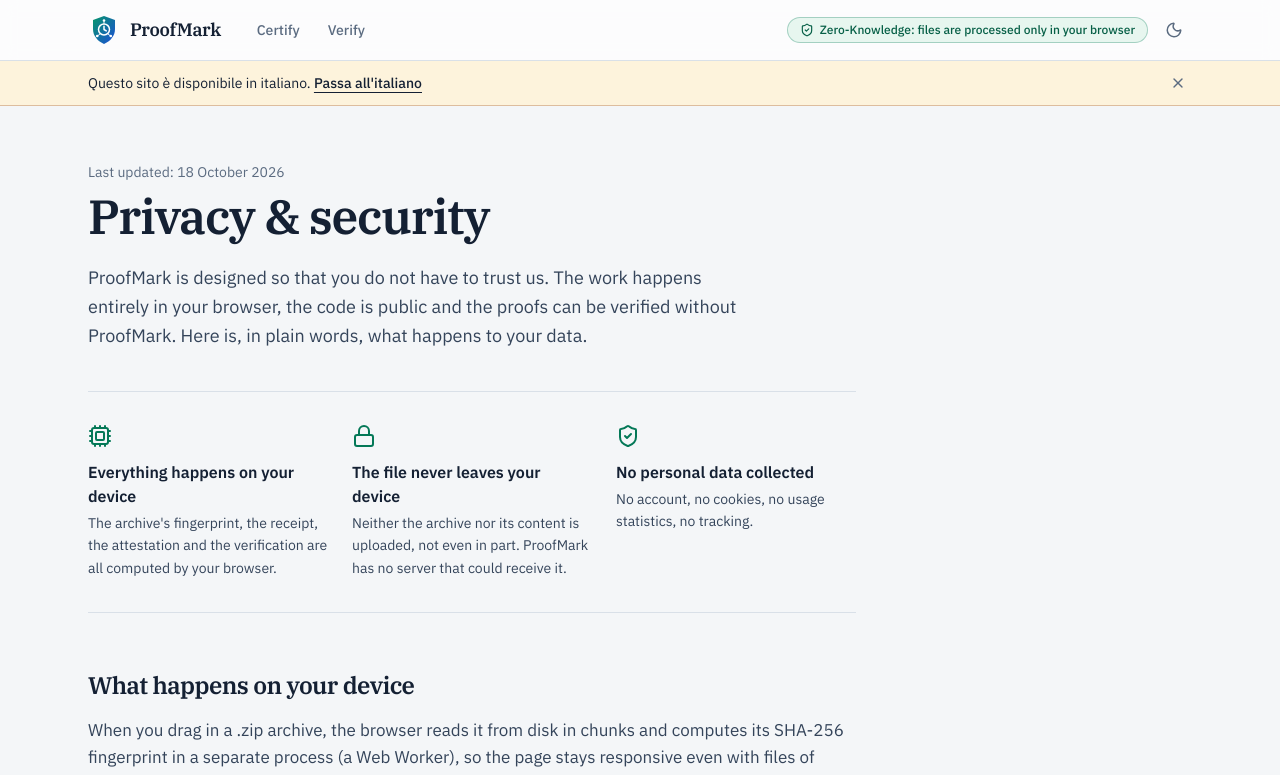
Scenario: Italian notice › the link saves Italian and opens the same page in Italian
Click the link "Passa all'italiano". click: point(368, 83)
box: [314,74,422,92]
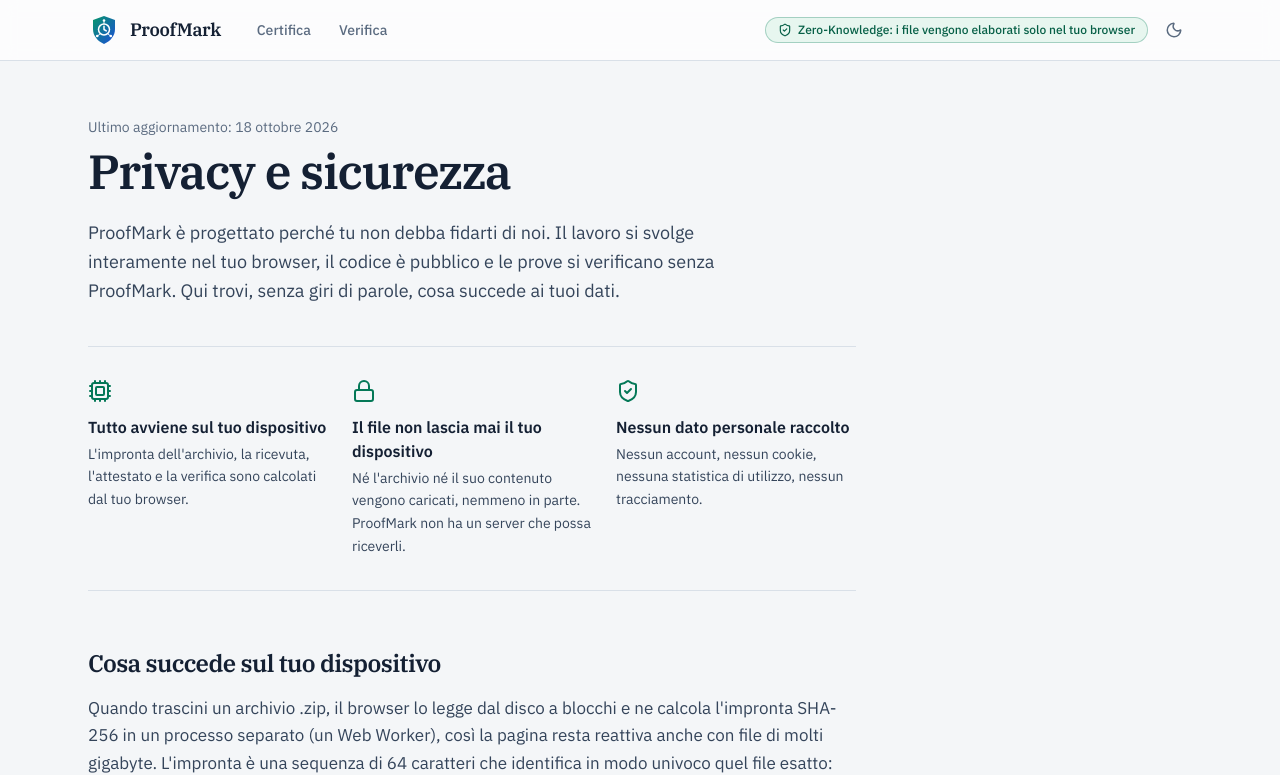
Expected: the text "Questo sito è disponibile in italiano." is gone
